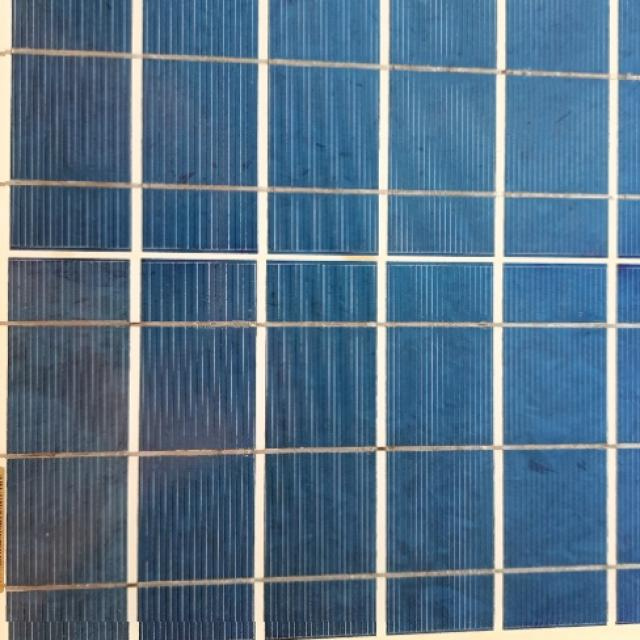Clean: (5, 0, 640, 622)
